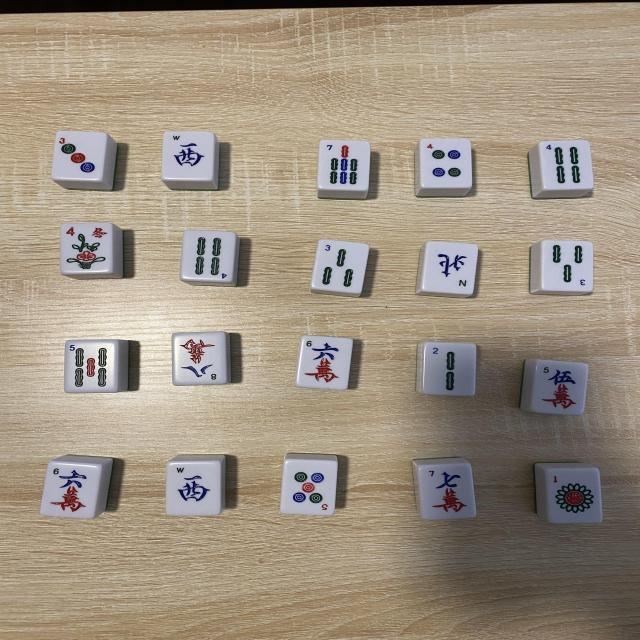bs4: (61, 222, 116, 274)
hwn: (423, 242, 480, 296)
hww: (168, 462, 223, 516), (162, 132, 215, 180)
sb2: (425, 343, 478, 396)
sb3: (313, 240, 372, 296), (541, 241, 594, 292)
sb4: (182, 228, 237, 282), (540, 140, 594, 192)
sb5: (66, 340, 119, 392)
sb7: (318, 140, 372, 192)
sc5: (530, 359, 590, 415)
sc6: (42, 460, 104, 520), (296, 336, 353, 392)
sc7: (419, 464, 477, 522)
sc8: (174, 330, 227, 384)
sd1: (546, 468, 602, 524)
sd3: (54, 130, 108, 180)
sd4: (420, 139, 475, 188)
sd5: (281, 454, 339, 516)
